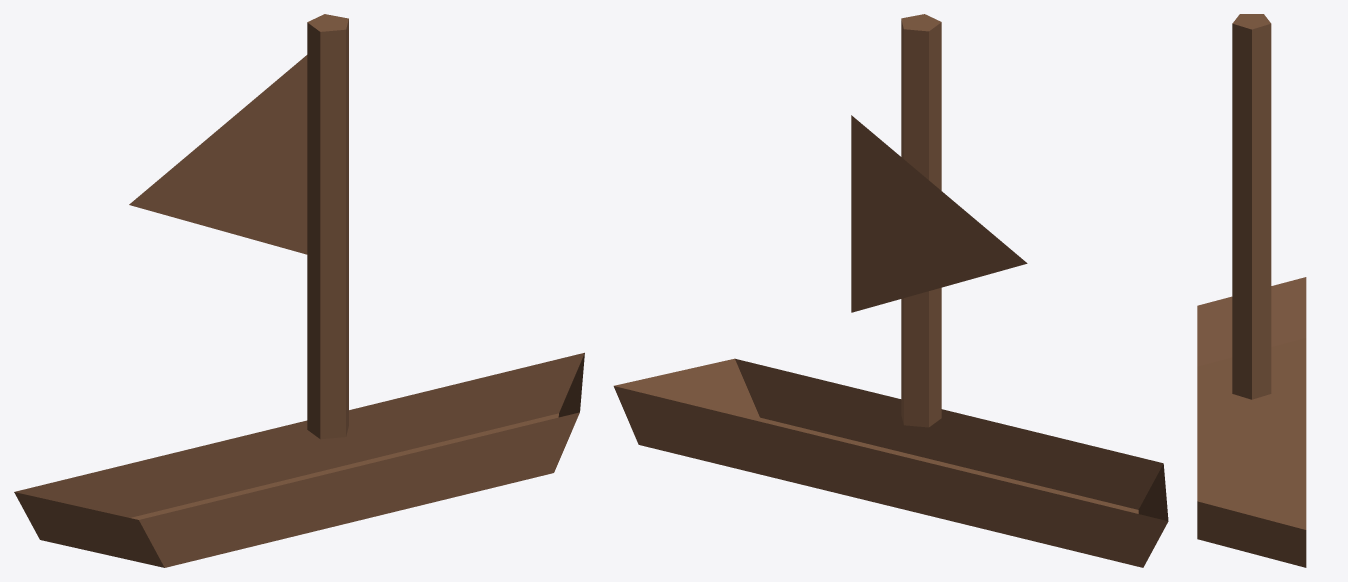
File: boat.obj
The picture shows the model from 3 angles, left to right: view 1: azimuth 30°, elevation 25°; view 2: azimuth 150°, elevation 25°; view 3: azimuth 270°, elevation 25°; orthographic projection. The views are drawn at different scales.
Bounding box in the file's own units: 0.44 × 0.35 × 0.1.
